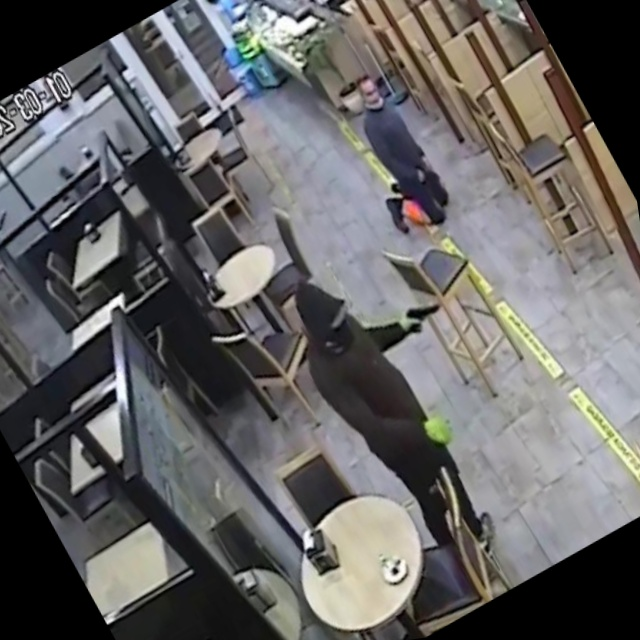gun: (383, 278, 467, 363)
